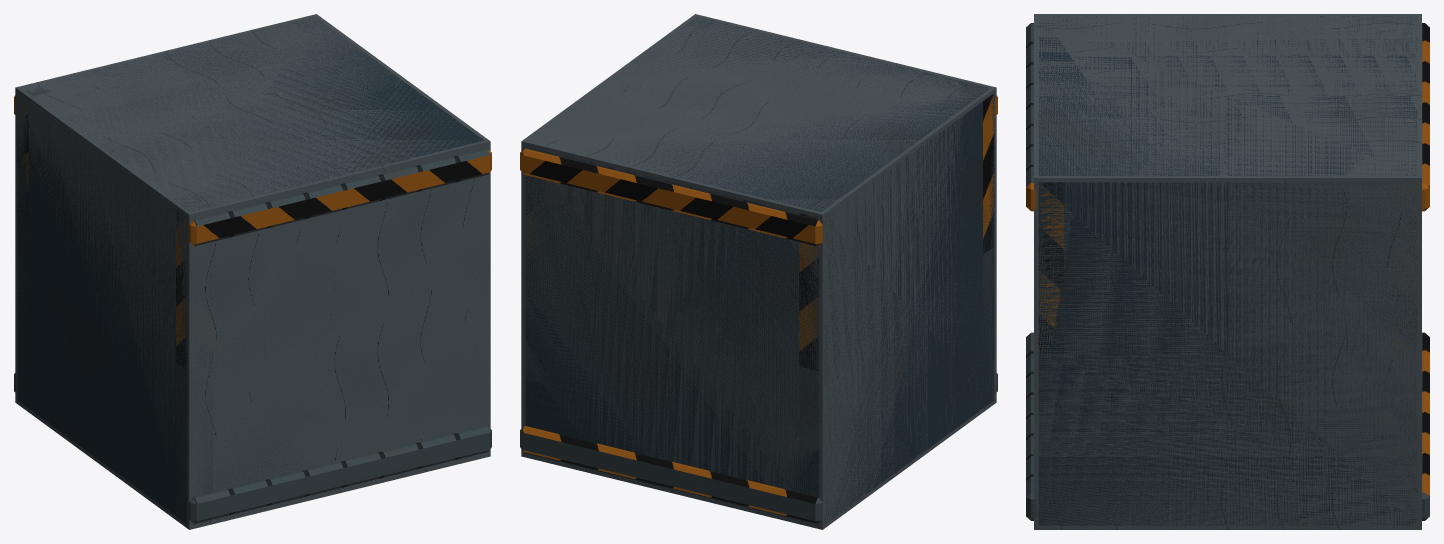
File: Cover_CrateHigh.fbx
3 renders of one model, left to right at view 1: azimuth 30°, elevation 25°; view 2: azimuth 150°, elevation 25°; view 3: azimuth 270°, elevation 25°, orthographic. The views are drawn at different scales.
Visible parts, largest first — view 1: COL_Foundry_Cover_CrateHigh_00_Both, ENV_Foundry_Cover_CrateHigh_LOD0; view 2: COL_Foundry_Cover_CrateHigh_00_Both, ENV_Foundry_Cover_CrateHigh_LOD0; view 3: COL_Foundry_Cover_CrateHigh_00_Both, ENV_Foundry_Cover_CrateHigh_LOD0.
Part boxes in pixels (left/top/right/bottom): COL_Foundry_Cover_CrateHigh_00_Both: left=15, top=14, right=490, bottom=529; ENV_Foundry_Cover_CrateHigh_LOD0: left=14, top=17, right=491, bottom=524; COL_Foundry_Cover_CrateHigh_00_Both: left=521, top=14, right=996, bottom=529; ENV_Foundry_Cover_CrateHigh_LOD0: left=520, top=16, right=997, bottom=524; COL_Foundry_Cover_CrateHigh_00_Both: left=1034, top=14, right=1421, bottom=529; ENV_Foundry_Cover_CrateHigh_LOD0: left=1026, top=16, right=1429, bottom=525.
Size of what is drawn, in the model's own units: 2 by 2 by 2.08.
